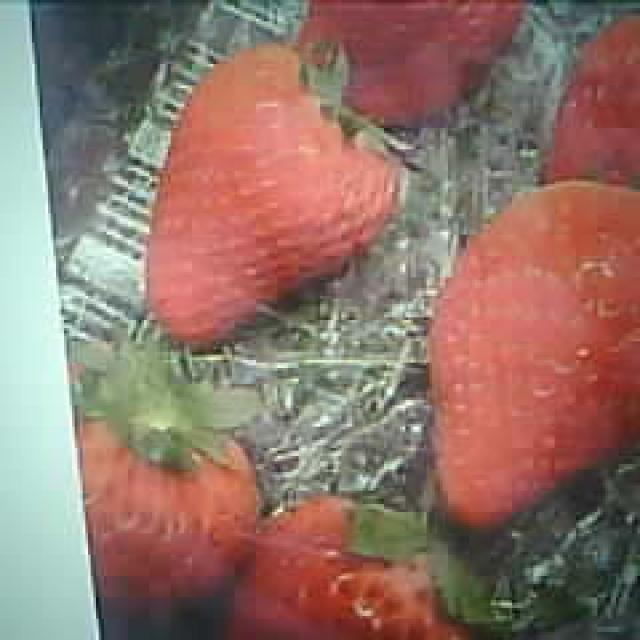strawberry: (143, 48, 390, 344), (429, 179, 638, 521)
